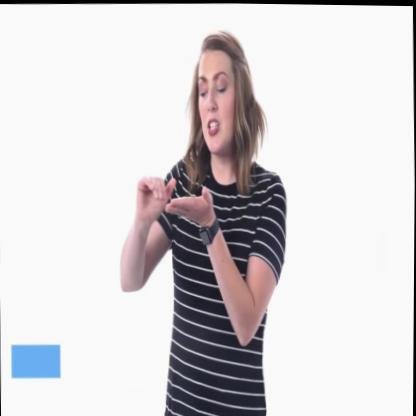ExcuseMe: (125, 158, 217, 242)
